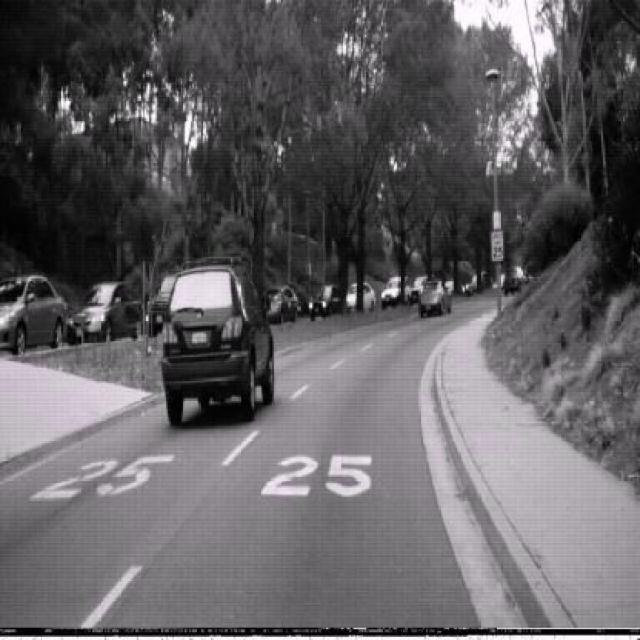speedLimit25: (491, 228, 504, 262)
